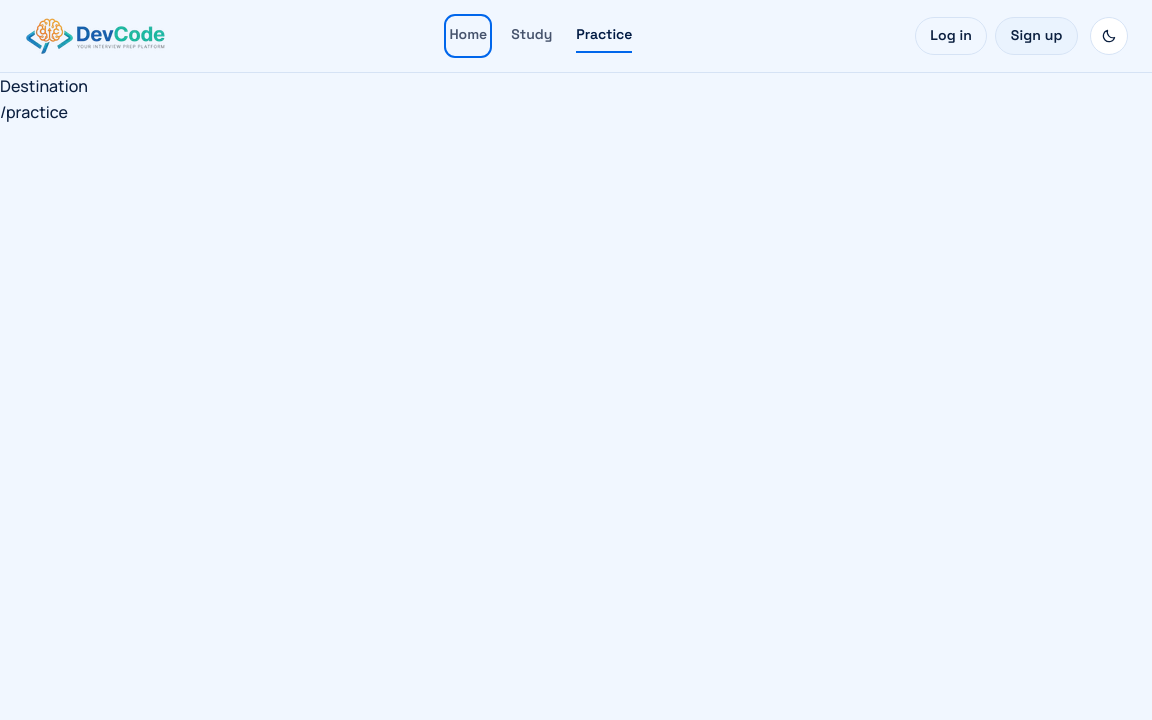
Test: navigation guard › navigates to Home when Leave quiz is clicked
Click the link "Home" at (468, 34), box [449, 26, 487, 44]
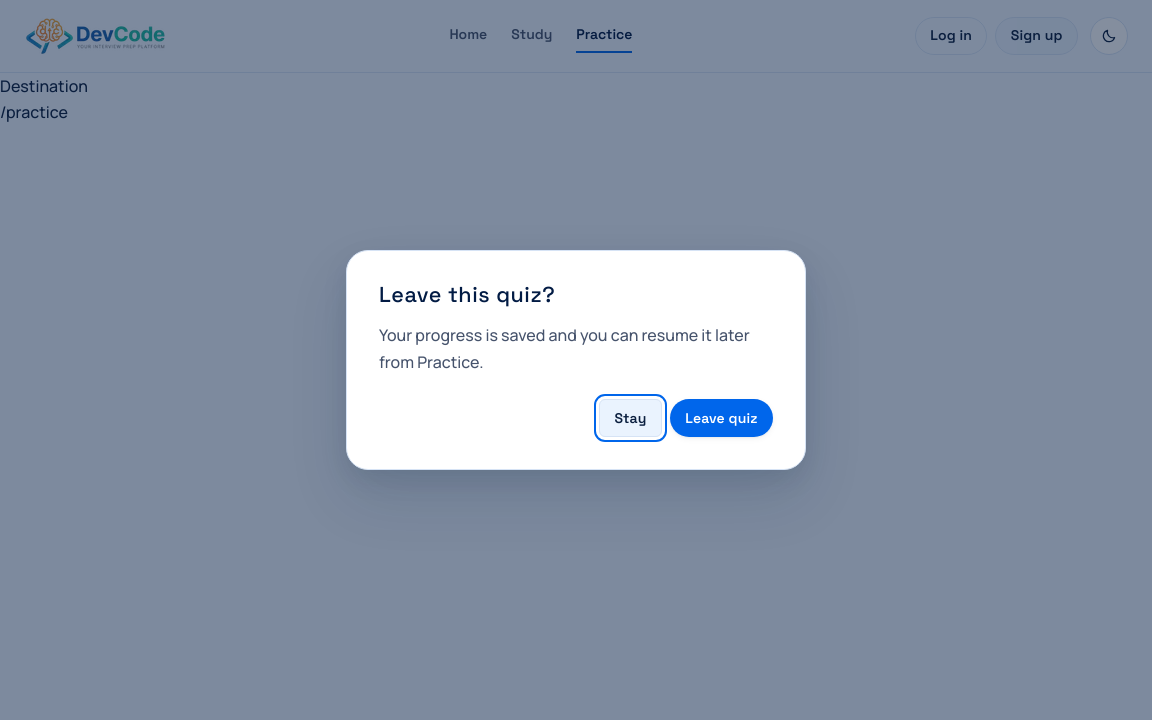
Click the button "Leave quiz" at (721, 418), box [670, 399, 773, 437]
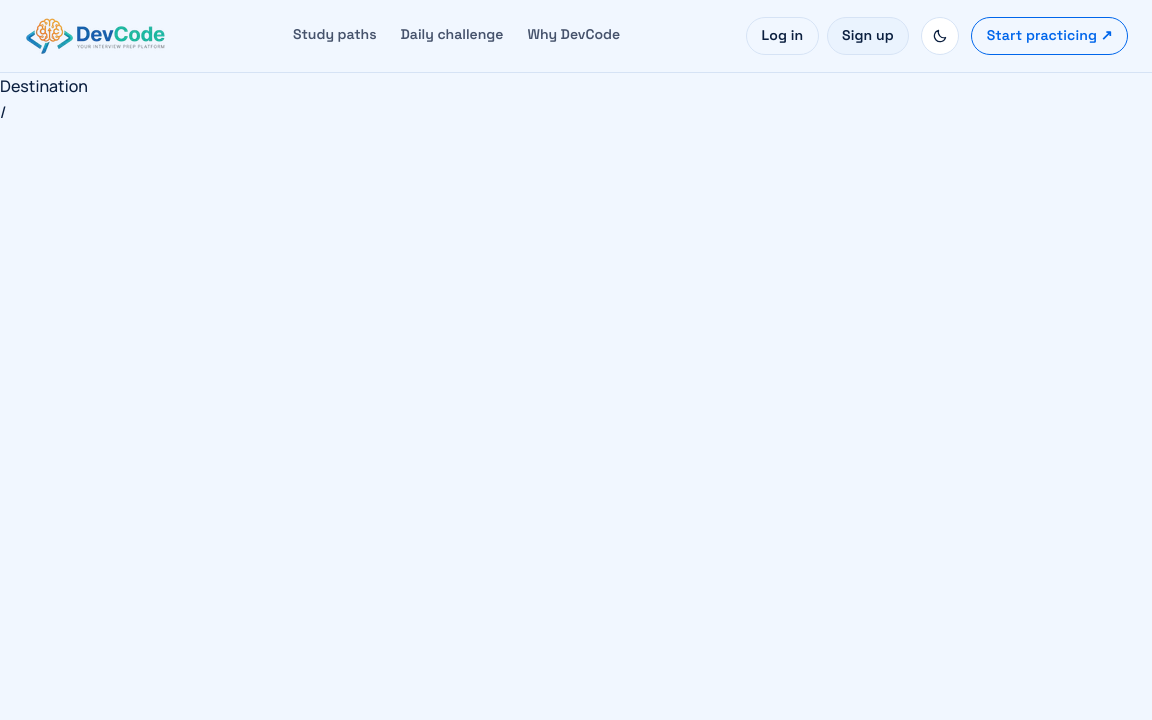
Check: the dialog is gone
